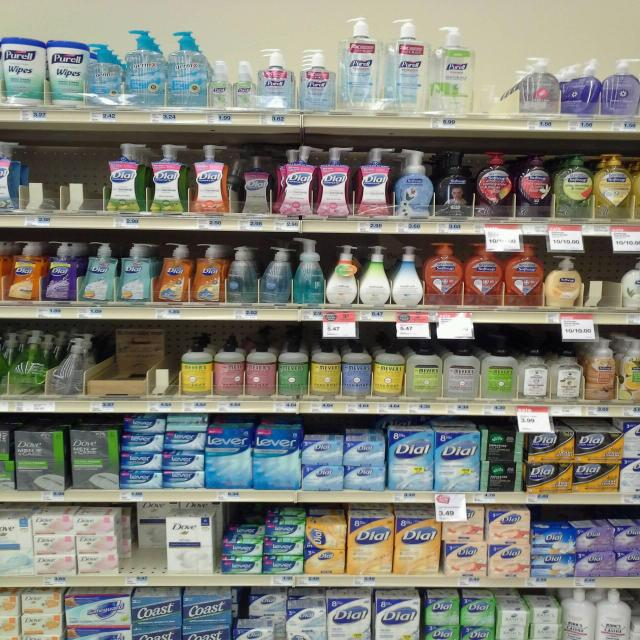empty_space: (32, 143, 64, 207), (75, 148, 103, 206)
